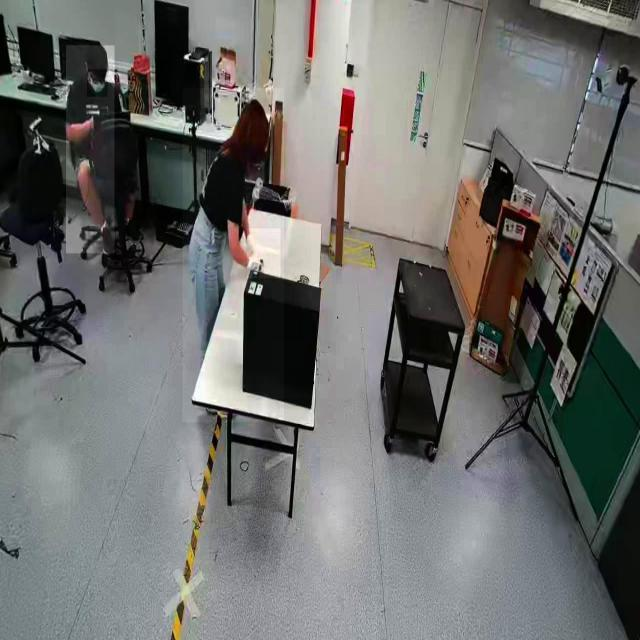face_mask: (87, 69, 108, 98)
hand_glove: (247, 228, 281, 278)
head_nohelmet: (238, 98, 270, 138), (87, 42, 108, 68)
person: (182, 88, 284, 423), (66, 46, 115, 254)
